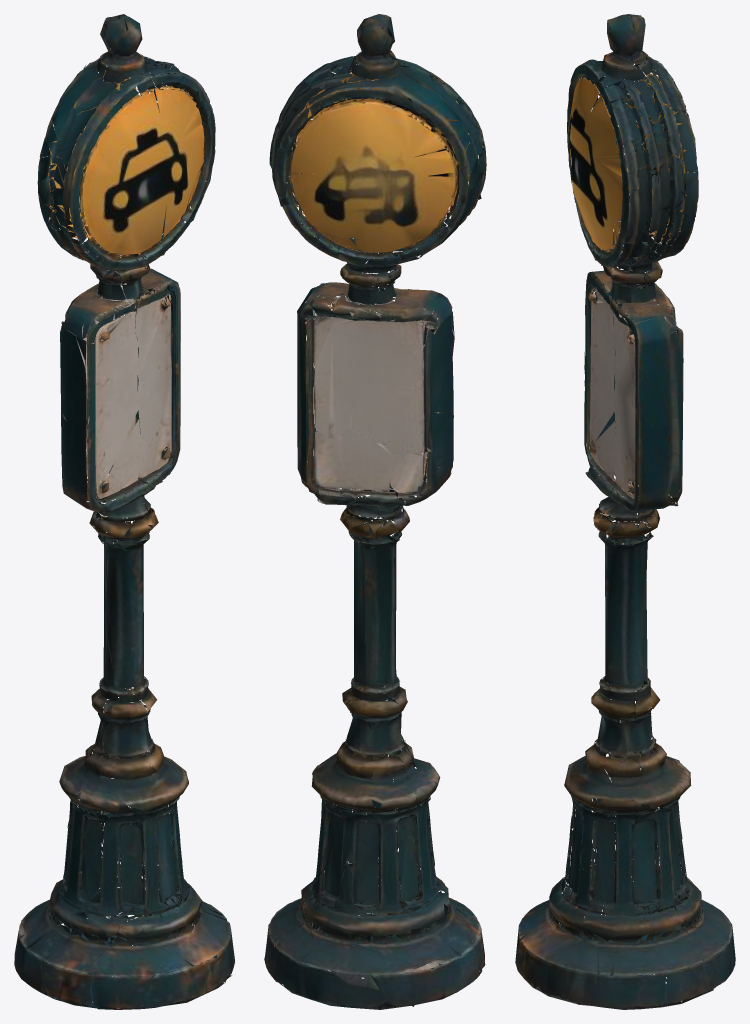
The model's file is base_basic_pbr.glb.
3 views of the same model, side by side, from view 1: azimuth 30°, elevation 25°; view 2: azimuth 150°, elevation 25°; view 3: azimuth 270°, elevation 25° (orthographic).
Visible parts, largest first — view 1: model; view 2: model; view 3: model.
Boxes of the visible parts, x1,y1,x2,y2 form: model: (14,14,234,1009); model: (264,14,486,1009); model: (515,14,735,1009).
Size of the model in its own units: 0.3981 by 1.9 by 0.3976.
1 material, 1 textured.
